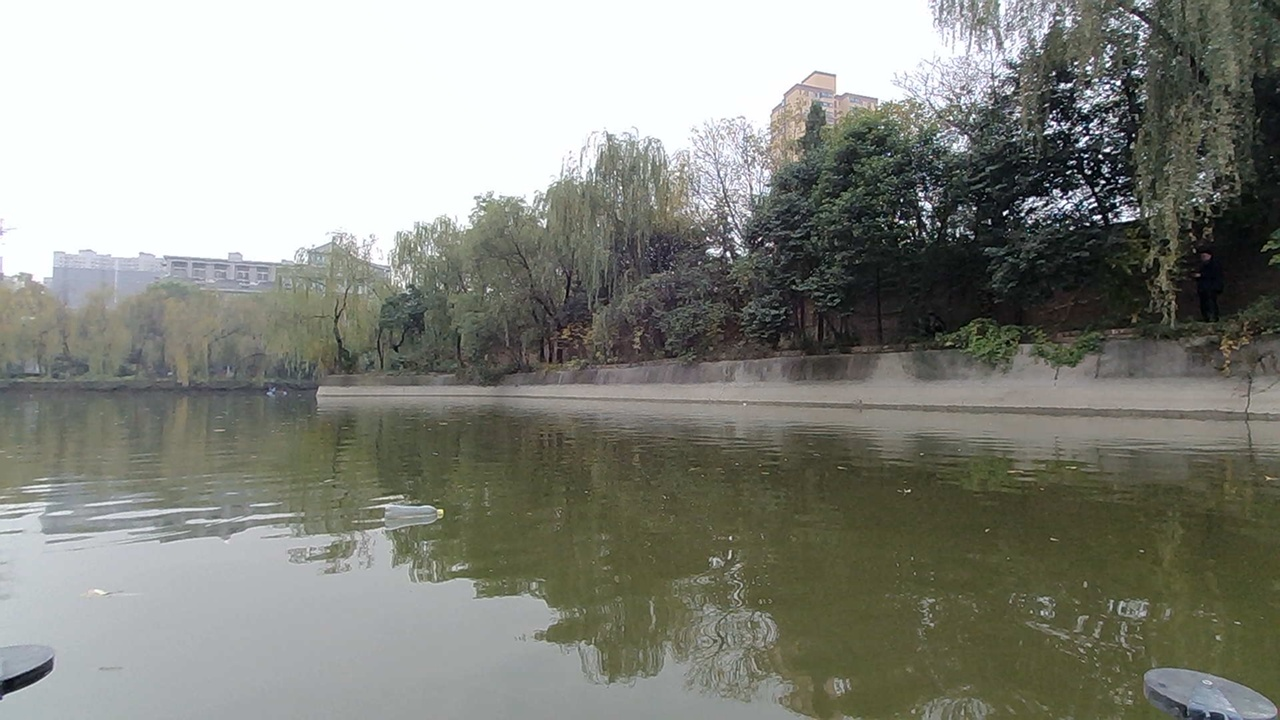bottle: (364, 485, 456, 540)
